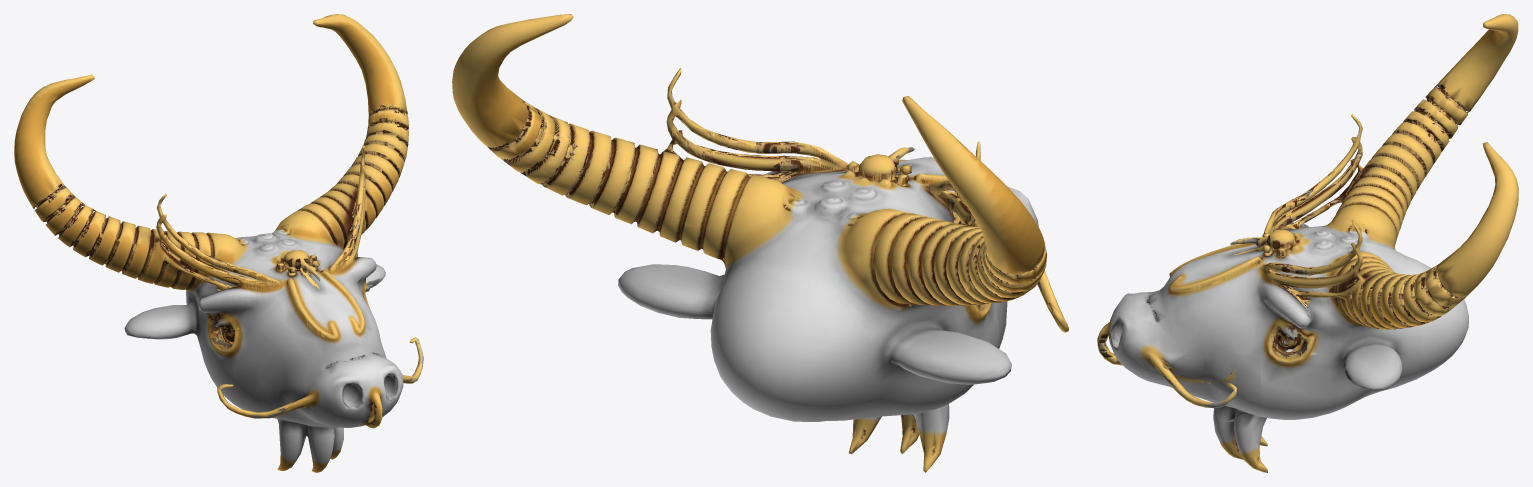
Rendered from trau_head.glb.
3 views of the same model, side by side, from view 1: azimuth 30°, elevation 25°; view 2: azimuth 150°, elevation 25°; view 3: azimuth 270°, elevation 25° (orthographic). The views are drawn at different scales.
Parts seen in each view (by area): view 1: trau_head; view 2: trau_head; view 3: trau_head.
Boxes of the visible parts, x1,y1,x2,y2 form: trau_head: [14, 14, 423, 472]; trau_head: [452, 14, 1068, 472]; trau_head: [1097, 14, 1518, 472].
Bounding box in the file's own units: 1.15 × 0.9997 × 1.01.
1 material, 1 textured.
